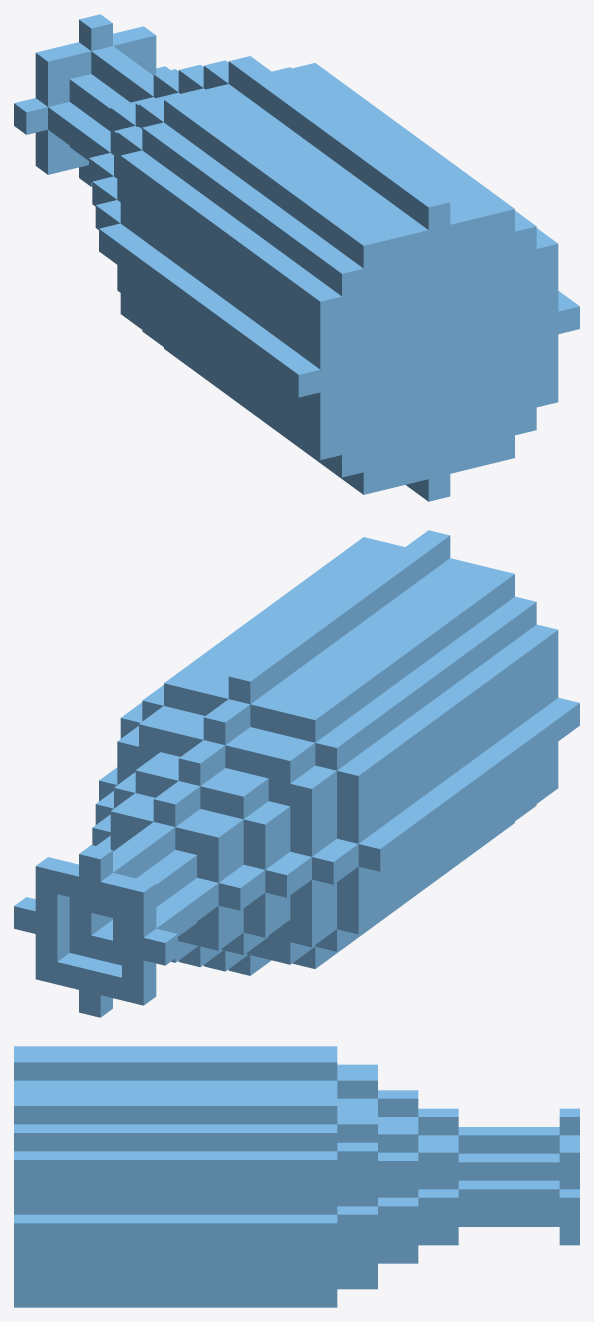
Rendered from bottiglia.gltf.
3 renders of one model, top to bottom at view 1: azimuth 30°, elevation 25°; view 2: azimuth 150°, elevation 25°; view 3: azimuth 270°, elevation 25°, orthographic. The views are drawn at different scales.
Visible parts, largest first — view 1: Layer.1; view 2: Layer.1; view 3: Layer.1.
Part boxes in pixels (bbox=[...]): Layer.1: bbox=[14, 14, 579, 501]; Layer.1: bbox=[14, 530, 579, 1017]; Layer.1: bbox=[14, 1046, 579, 1307].
Size of the model in its own units: 13 by 13 by 28.
Materials: 1 (1 with a texture image).
